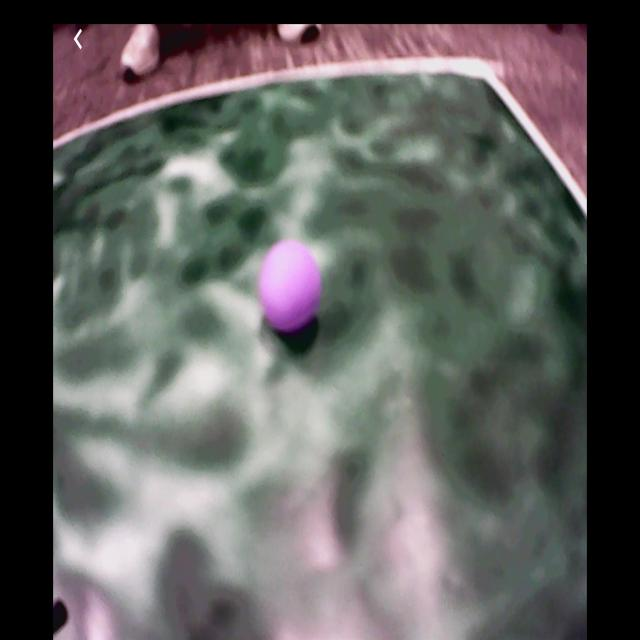ball: (261, 242, 322, 335)
